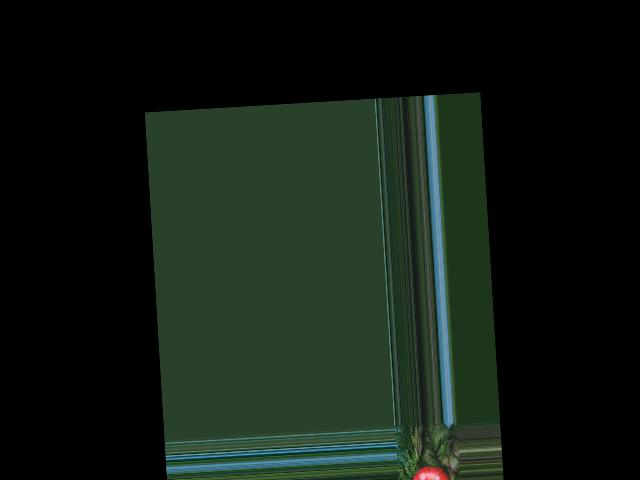tomato: (407, 465, 455, 480)
